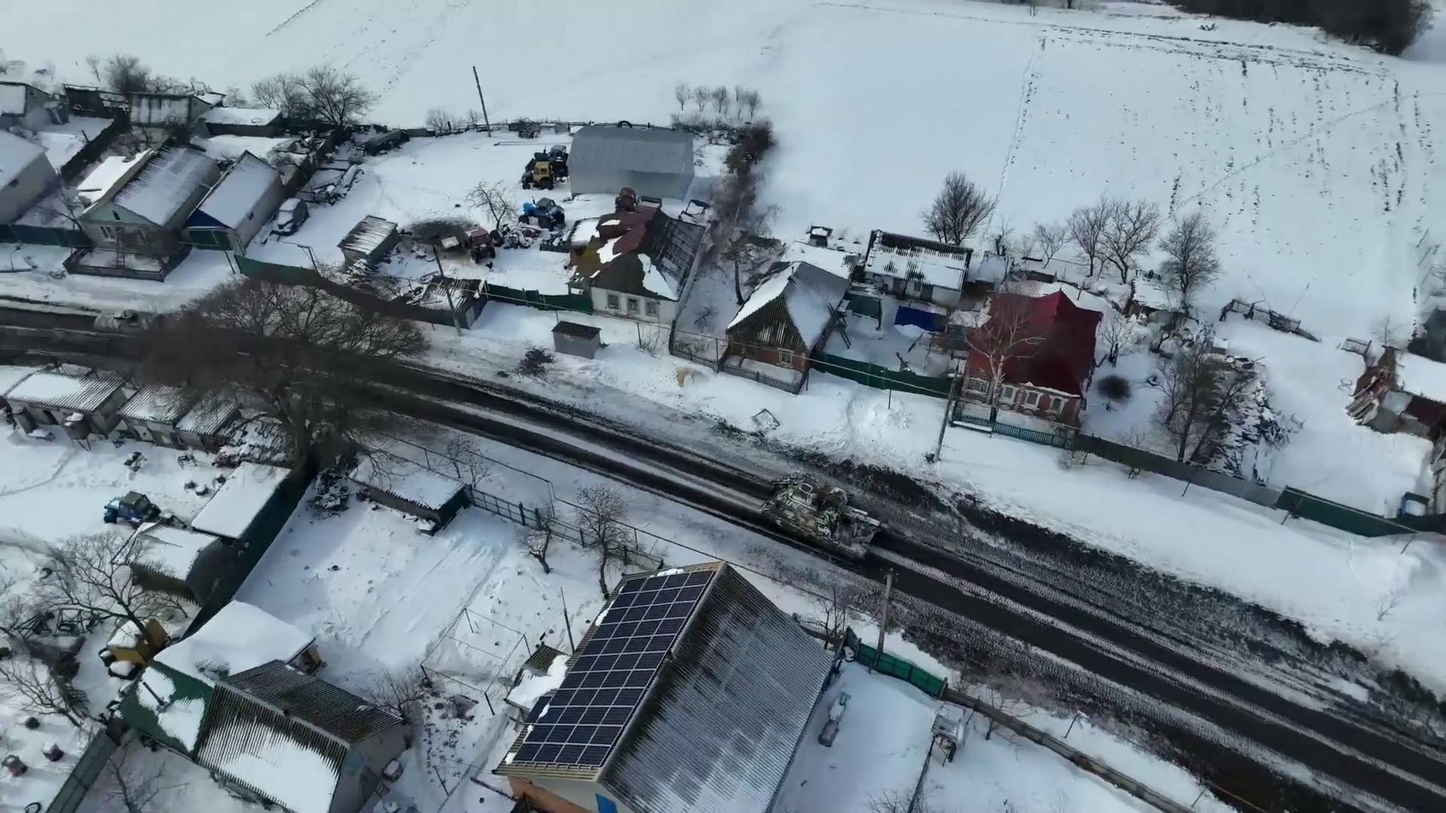sau: (760, 475, 956, 562)
